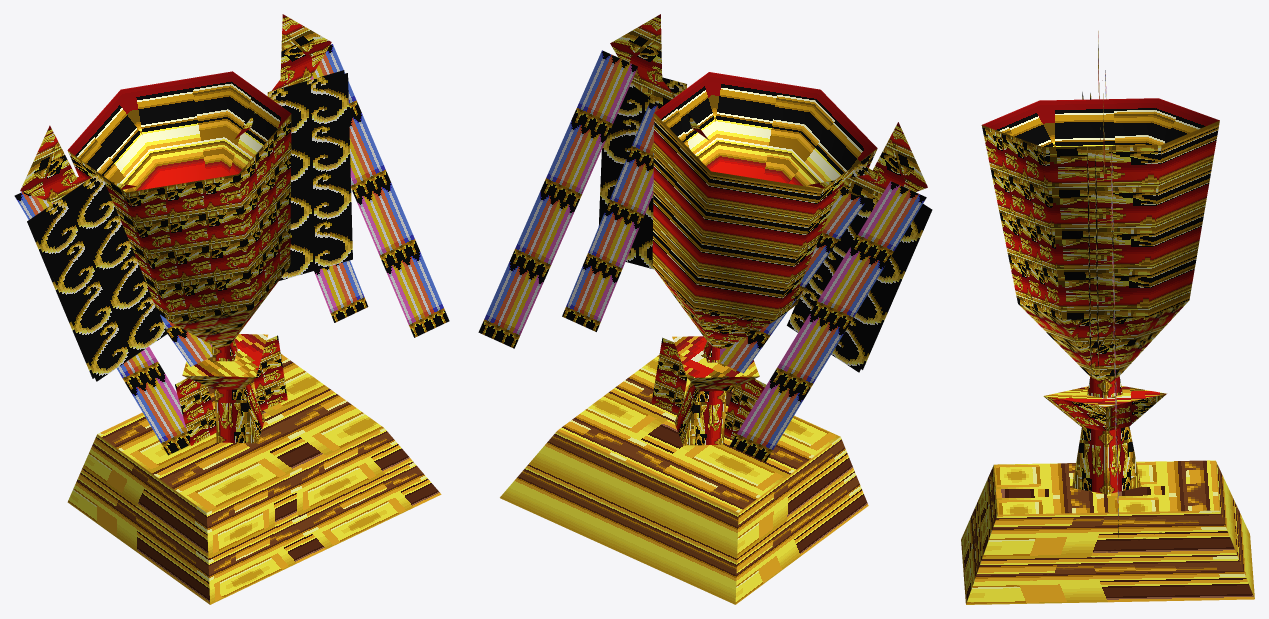
File: MGtr_05.gltf
The picture shows the model from 3 angles, left to right: view 1: azimuth 30°, elevation 25°; view 2: azimuth 150°, elevation 25°; view 3: azimuth 270°, elevation 25°; orthographic projection. The views are drawn at different scales.
Visible parts, largest first — view 1: MGtr_05; view 2: MGtr_05; view 3: MGtr_05.
Boxes of the visible parts, x1,y1,x2,y2 form: MGtr_05: [14, 14, 449, 604]; MGtr_05: [478, 14, 932, 604]; MGtr_05: [961, 31, 1254, 604].
Bounding box in the file's own units: 1.26 × 1.38 × 0.6936.
Materials: 4 (4 with a texture image).
